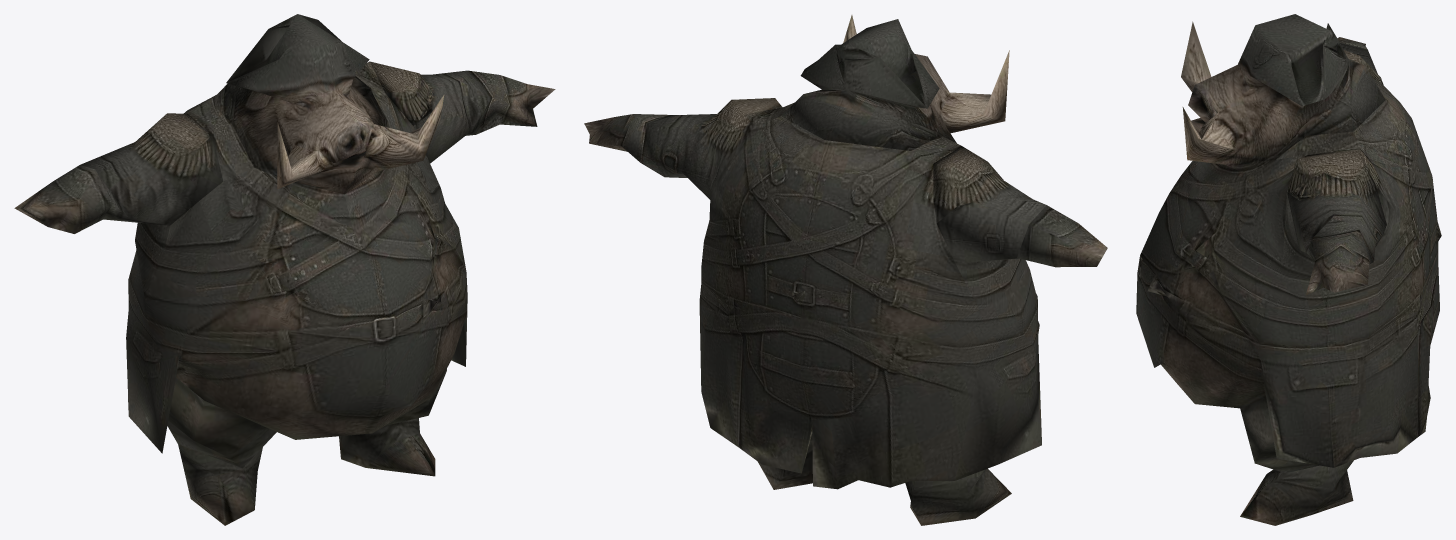
File: cavalry_hp_gibs.glb
3 renders of one model, left to right at view 1: azimuth 30°, elevation 25°; view 2: azimuth 150°, elevation 25°; view 3: azimuth 270°, elevation 25°, orthographic. The views are drawn at different scales.
Visible parts, largest first — view 1: Body.001, Head.001, Arm.R.001, Arm.L.001, Upleg.R.001, Leg.R.001, Forarm.R.001, Leg.L.001, Forarm.L.001; view 2: Body.001, Head.001, Arm.R.001, Arm.L.001, Leg.R.001, Forarm.R.001, Forarm.L.001, Leg.L.001; view 3: Body.001, Head.001, Arm.L.001, Leg.L.001, Forarm.L.001, Upleg.L.001, Arm.R.001.
Part boxes in pixels (box(x1,y1,x2,y2)): Body.001: box(126, 61, 467, 453); Head.001: box(210, 14, 444, 194); Arm.R.001: box(80, 113, 223, 225); Arm.L.001: box(370, 61, 491, 163); Upleg.R.001: box(167, 377, 276, 468); Leg.R.001: box(178, 444, 262, 525); Forarm.R.001: box(14, 165, 112, 233); Leg.L.001: box(339, 418, 435, 476); Forarm.L.001: box(468, 70, 555, 134); Body.001: box(699, 102, 1041, 489); Head.001: box(781, 15, 1009, 150); Arm.R.001: box(933, 146, 1046, 263); Arm.L.001: box(640, 98, 782, 199); Leg.R.001: box(905, 468, 1011, 525); Forarm.R.001: box(1017, 205, 1107, 267); Forarm.L.001: box(584, 114, 670, 162); Leg.L.001: box(758, 440, 812, 489); Body.001: box(1136, 78, 1441, 467); Head.001: box(1181, 14, 1385, 164); Arm.L.001: box(1287, 150, 1386, 261); Leg.L.001: box(1240, 460, 1353, 525); Forarm.L.001: box(1306, 229, 1373, 294); Upleg.L.001: box(1240, 409, 1319, 473); Arm.R.001: box(1340, 43, 1383, 84).
Size of the model in its own units: 0.9472 by 0.7819 by 0.4863.
4 materials, 2 textured.
